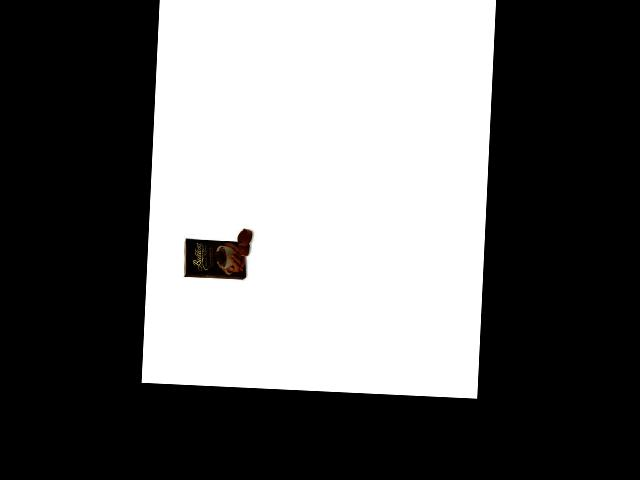chocolate: (180, 233, 249, 282)
